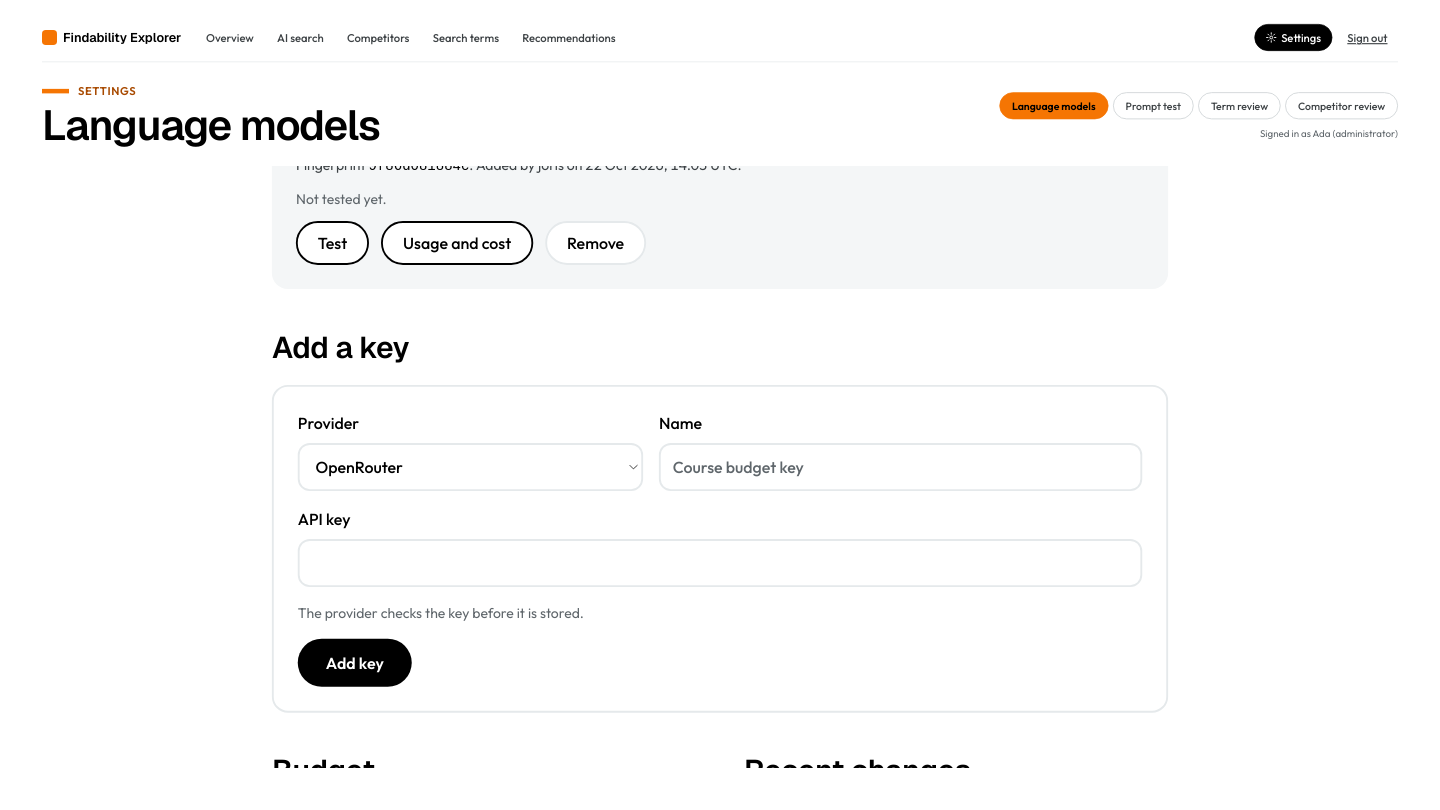
Scenario: adding a key › sends the key, then forgets it
(page scrolled)
Step 1. Select "Mistral" in the dropdown labelled "Provider" → (470, 467), box x1=298 y1=443 x2=643 y2=491
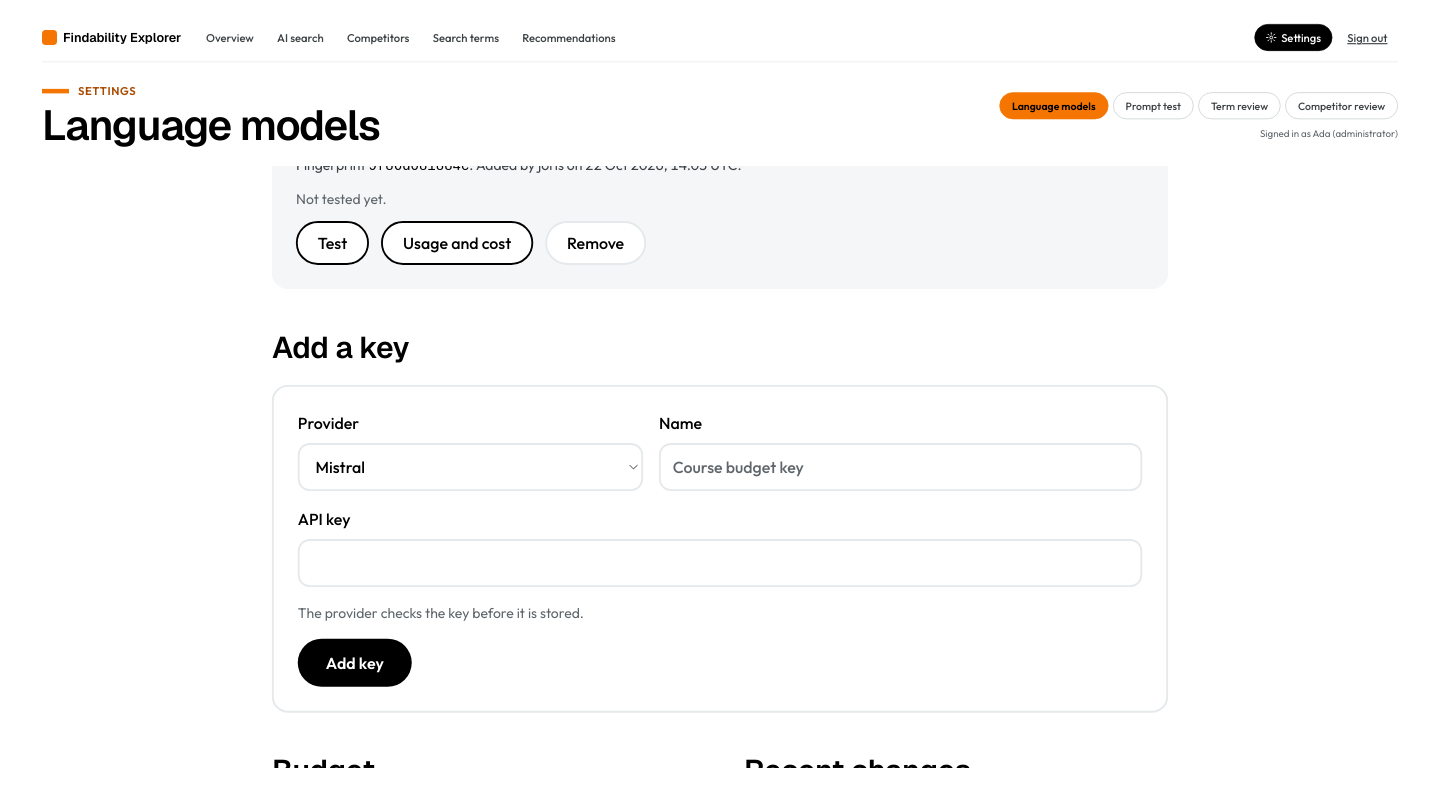
Step 2. Type " Mistral key " into the field labelled "Name" → (901, 467), box x1=659 y1=443 x2=1142 y2=491
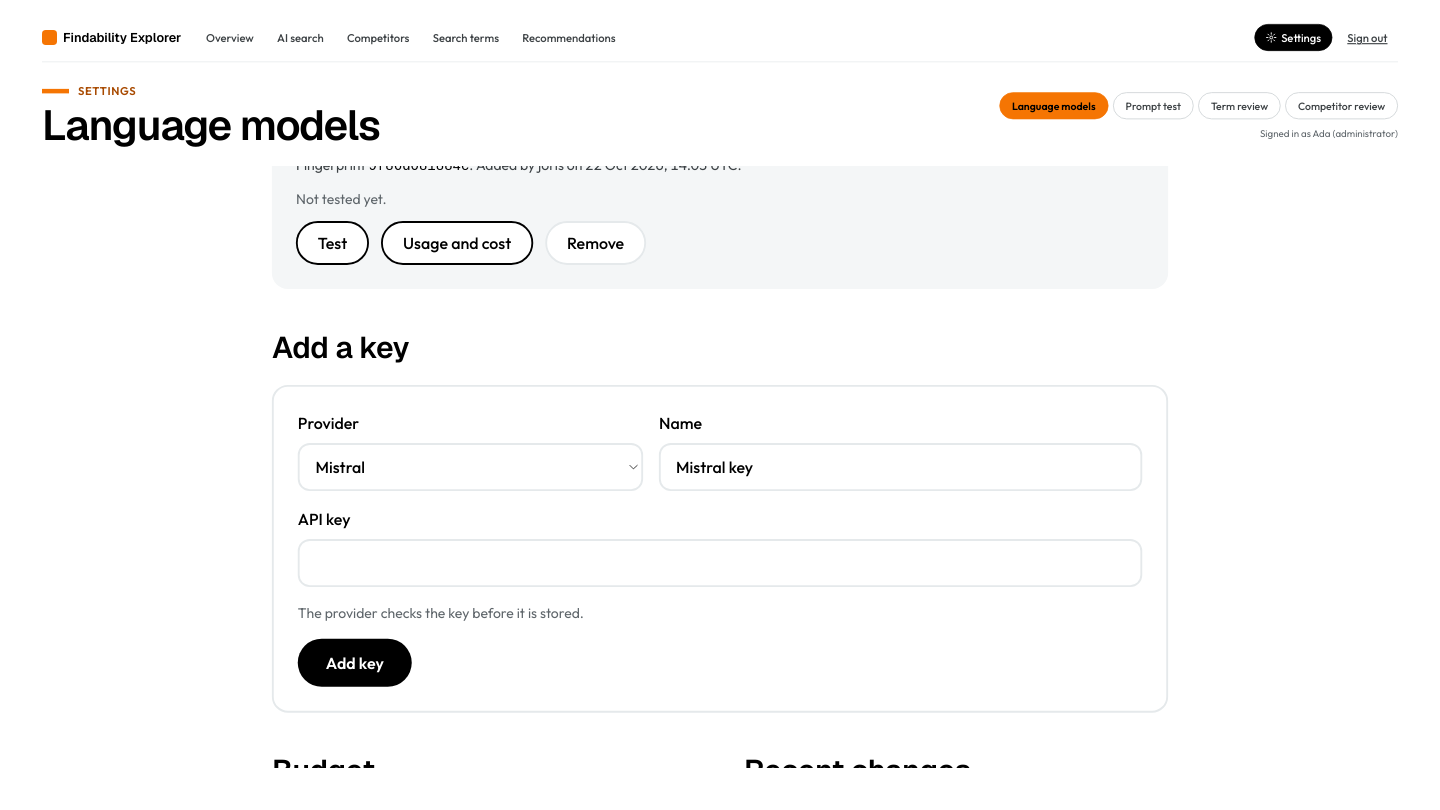
Step 3. Type "fake-test-key" into the password field labelled "API key" → (720, 563), box x1=298 y1=539 x2=1142 y2=587
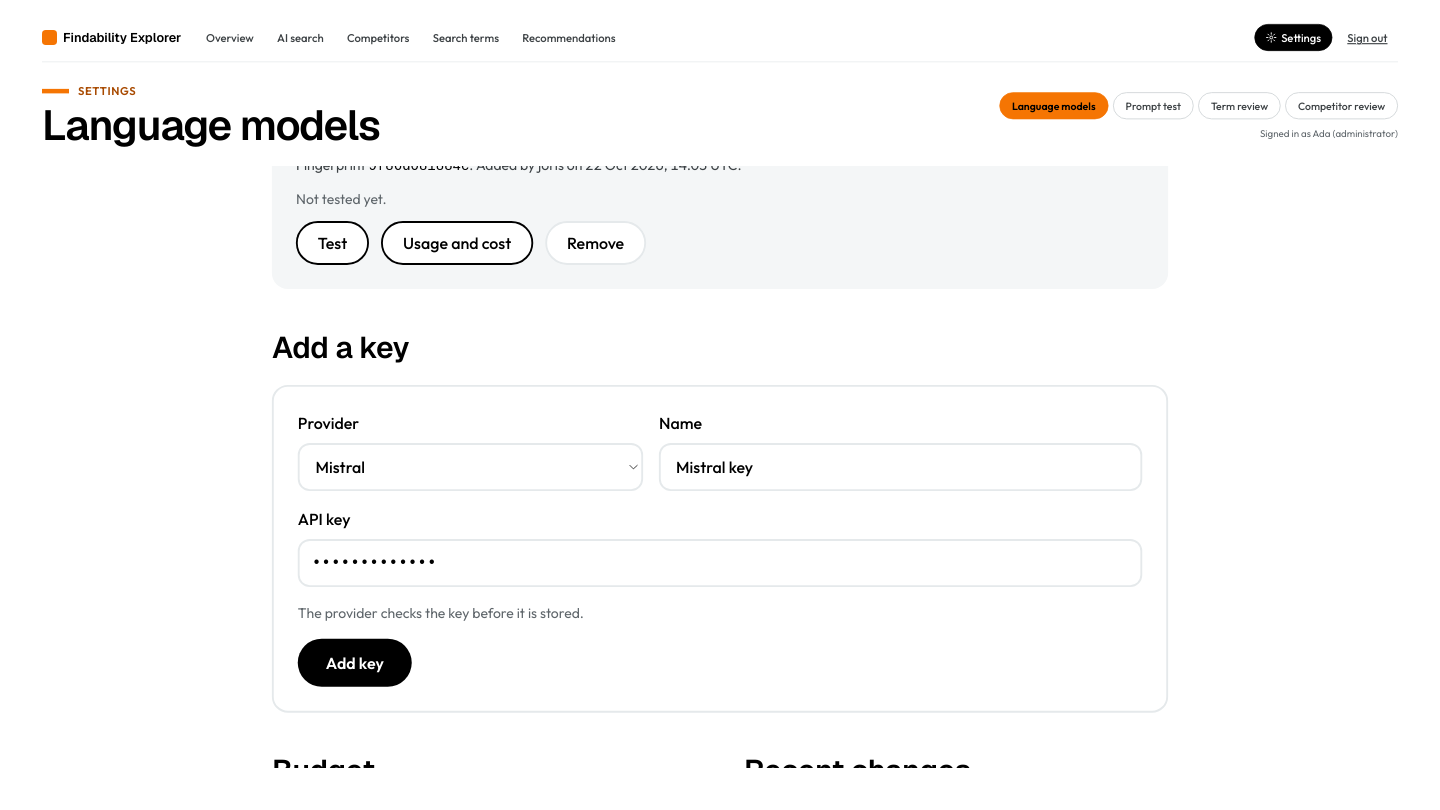
Step 4. Submit the form that starts with "Provider", box x1=272 y1=385 x2=1168 y2=713
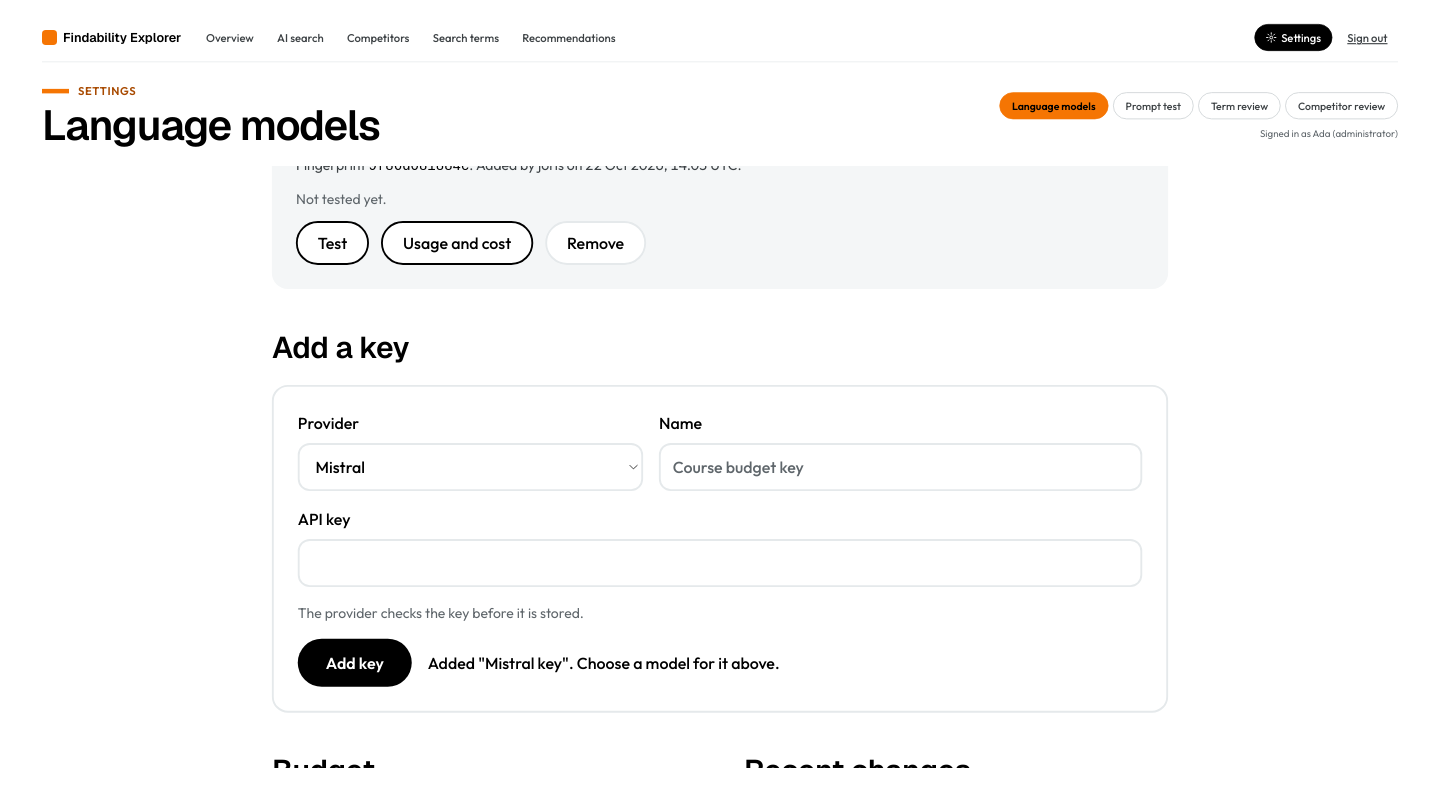
Check: the password field labelled "API key" is empty, box x1=298 y1=539 x2=1142 y2=587
Check: the form that starts with "Provider" shows "Added \"Mistral key\". Choose a model for it above.", box x1=428 y1=653 x2=780 y2=673
